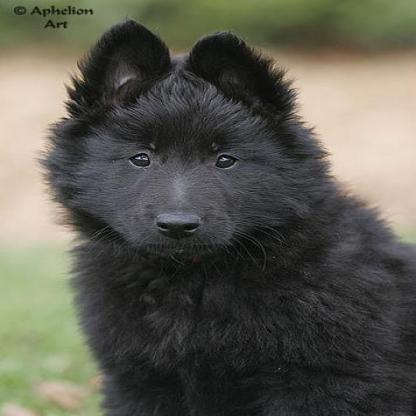groenendael: (1, 21, 412, 414)
